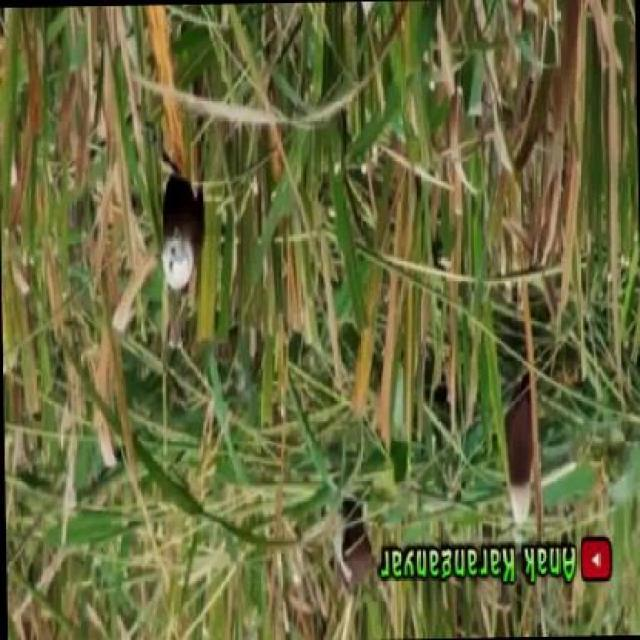Bird: (139, 139, 207, 298), (494, 378, 542, 531), (334, 497, 379, 596)
